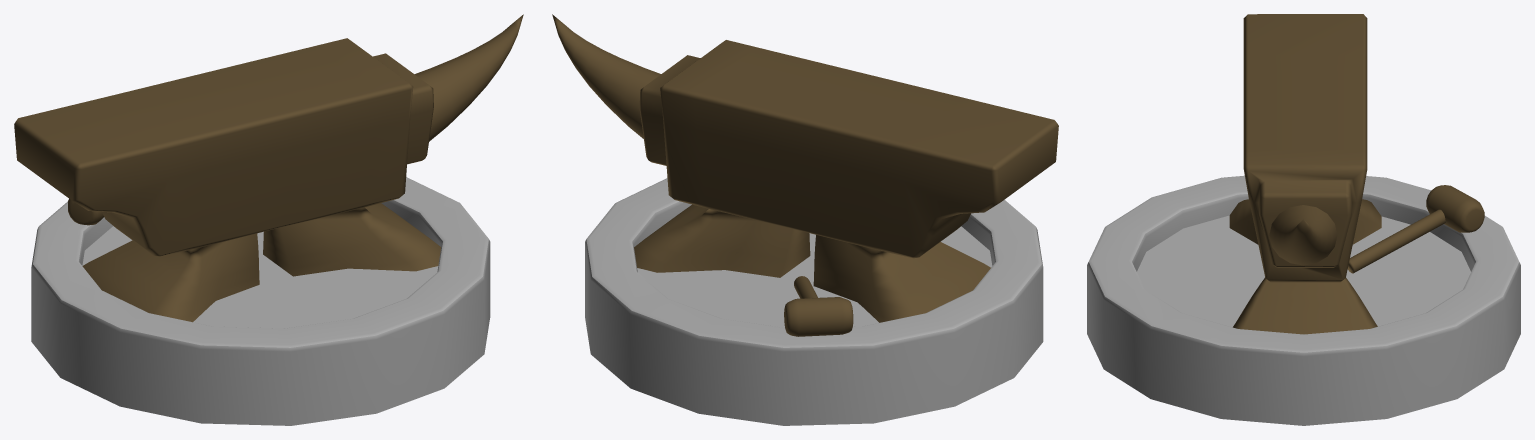
The model's file is MapDeactivatedNodes_Anvil.fbx.
The picture shows the model from 3 angles, left to right: view 1: azimuth 30°, elevation 25°; view 2: azimuth 150°, elevation 25°; view 3: azimuth 270°, elevation 25°; orthographic projection. The views are drawn at different scales.
Visible parts, largest first — view 1: DeactivatedNodes_Anvil; view 2: DeactivatedNodes_Anvil; view 3: DeactivatedNodes_Anvil.
Part boxes in pixels (box(x1,y1,x2,y2)): DeactivatedNodes_Anvil: box(14, 14, 523, 425); DeactivatedNodes_Anvil: box(552, 14, 1058, 425); DeactivatedNodes_Anvil: box(1087, 14, 1520, 425).
Size of the model in its own units: 2.38 by 1.2 by 2.
